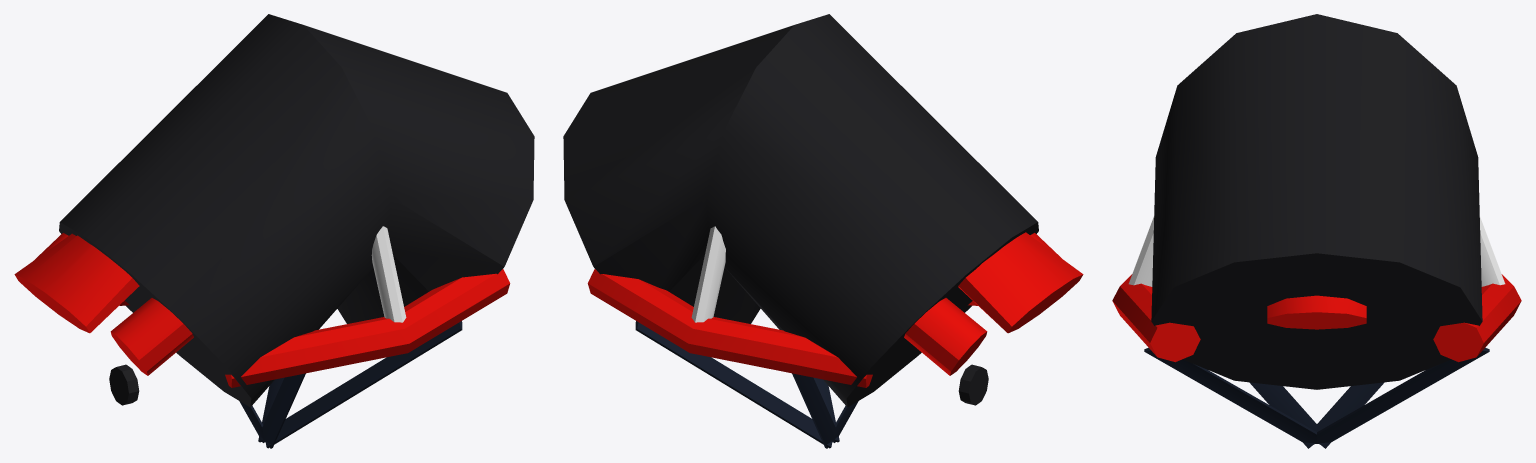
Rendered from helmet_vented.glb.
3 renders of one model, left to right at view 1: azimuth 30°, elevation 25°; view 2: azimuth 150°, elevation 25°; view 3: azimuth 270°, elevation 25°, orthographic. The views are drawn at different scales.
Parts seen in each view (by area): view 1: Helmet_Vented; view 2: Helmet_Vented; view 3: Helmet_Vented.
Boxes of the visible parts, x1=… form: Helmet_Vented: x1=14, y1=14, x2=534, y2=448; Helmet_Vented: x1=563, y1=14, x2=1083, y2=448; Helmet_Vented: x1=1112, y1=14, x2=1521, y2=448.
Size of the model in its own units: 0.2694 by 0.2299 by 0.1879.
